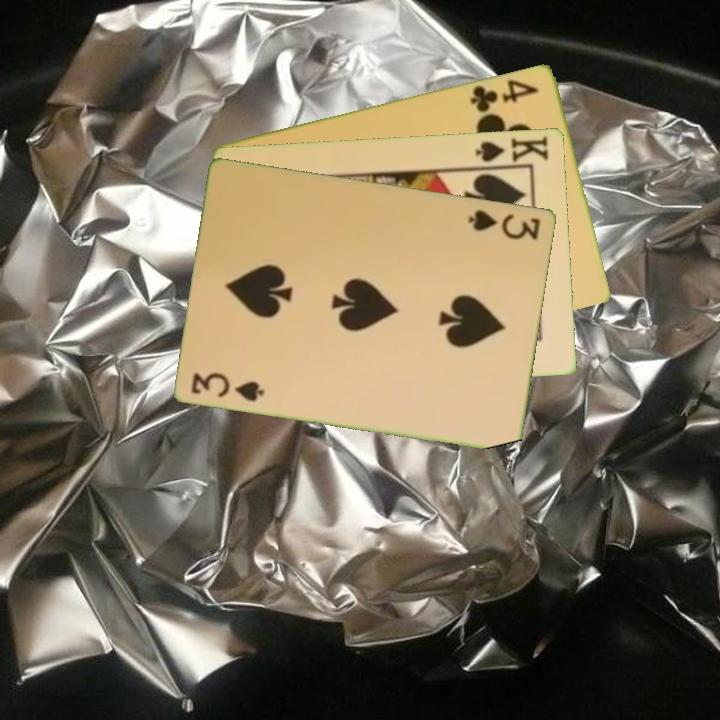3s: (188, 368, 268, 404), (465, 206, 544, 242)
4c: (467, 75, 542, 115)
Ks: (471, 132, 551, 170)
